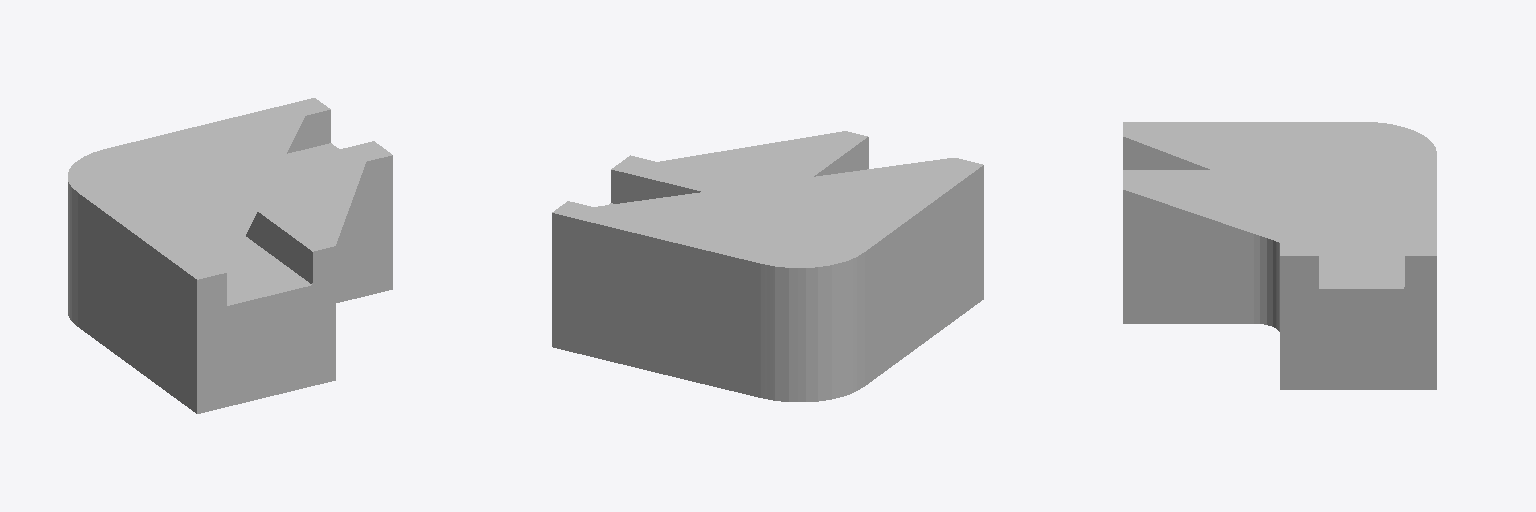
File: pieceL.obj
The picture shows the model from 3 angles: view 1: azimuth 30°, elevation 25°; view 2: azimuth 150°, elevation 25°; view 3: azimuth 270°, elevation 25°; orthographic projection.
Visible parts, largest first — view 1: Cube.004; view 2: Cube.004; view 3: Cube.004.
Part boxes in pixels (x1,y1,x2,y2): Cube.004: (68, 98, 392, 413); Cube.004: (552, 131, 983, 401); Cube.004: (1123, 122, 1436, 389).
Size of the model in its own units: 3.61 by 1.69 by 3.58.